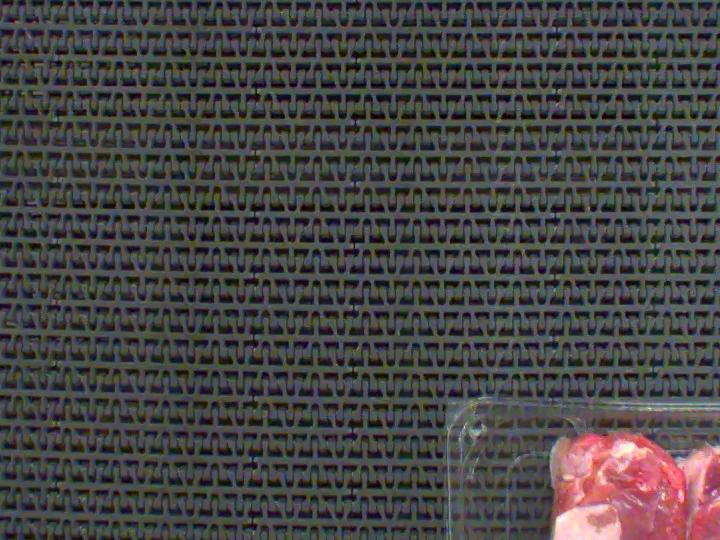packaging-error: (563, 407, 661, 441)
